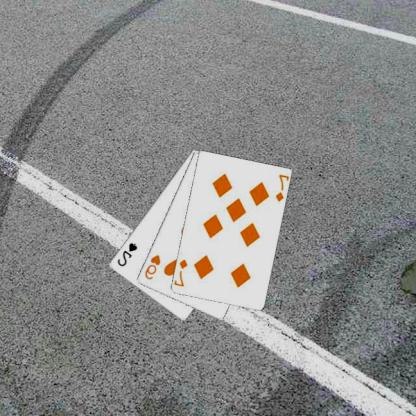2S: (116, 240, 141, 268)
6H: (144, 252, 164, 281)
7D: (174, 256, 191, 288), (274, 172, 290, 204)
